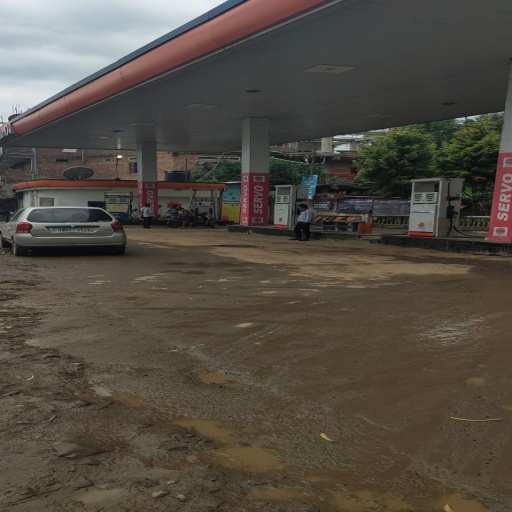roof: (1, 1, 510, 158)
